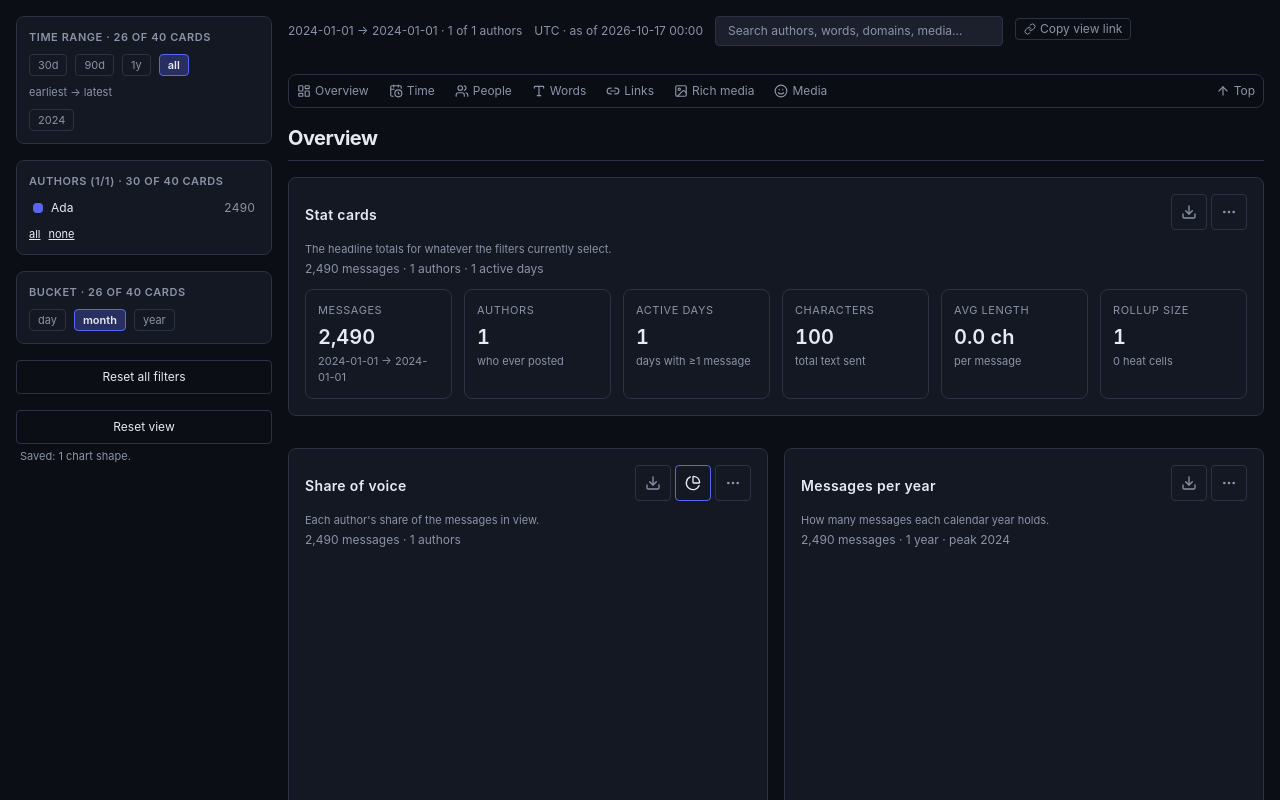
Scenario: a chart shape through the dashboard › acknowledges the reset instead of clearing the saved view silently
This screenshot has width=1280, height=800.
Click the button "Reset view".
click(144, 427)  # box top-left (16, 410), bottom-right (272, 444)
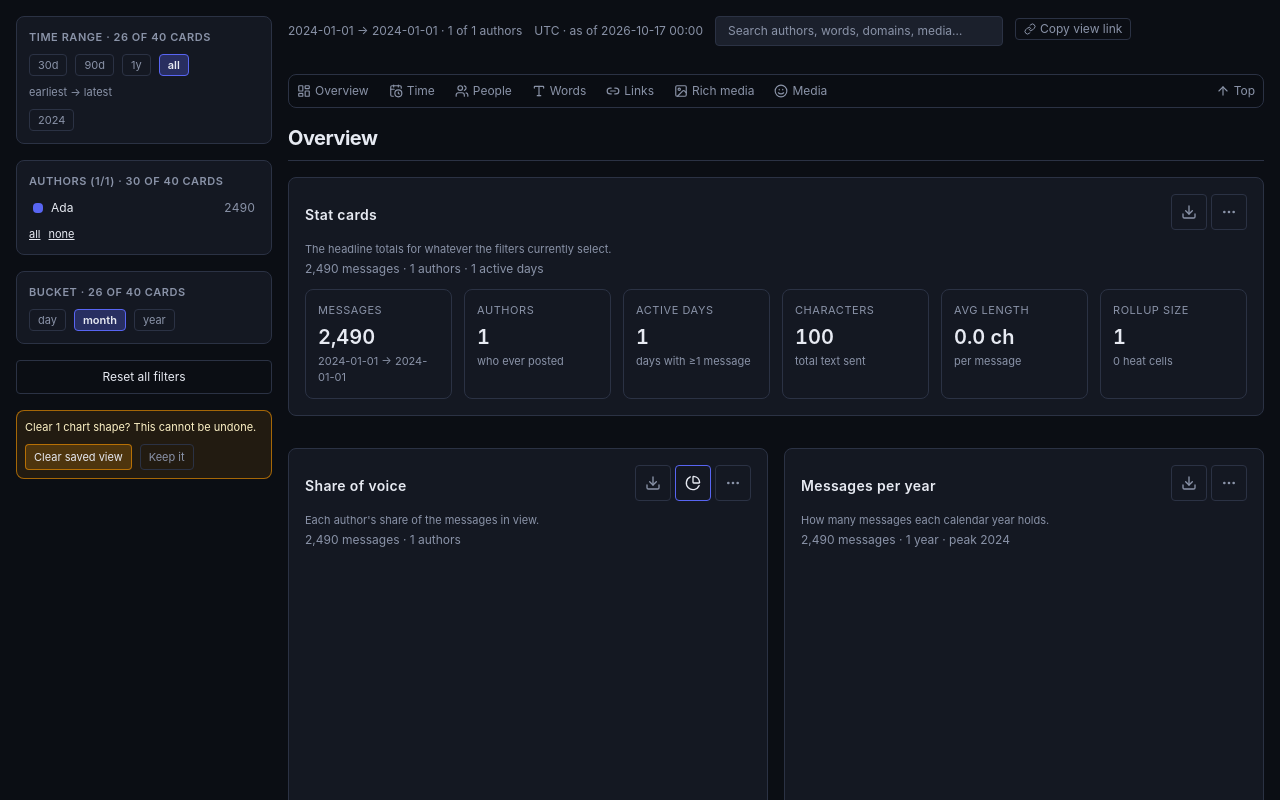
Click the button "Clear saved view".
click(78, 457)  # box top-left (25, 444), bottom-right (132, 470)
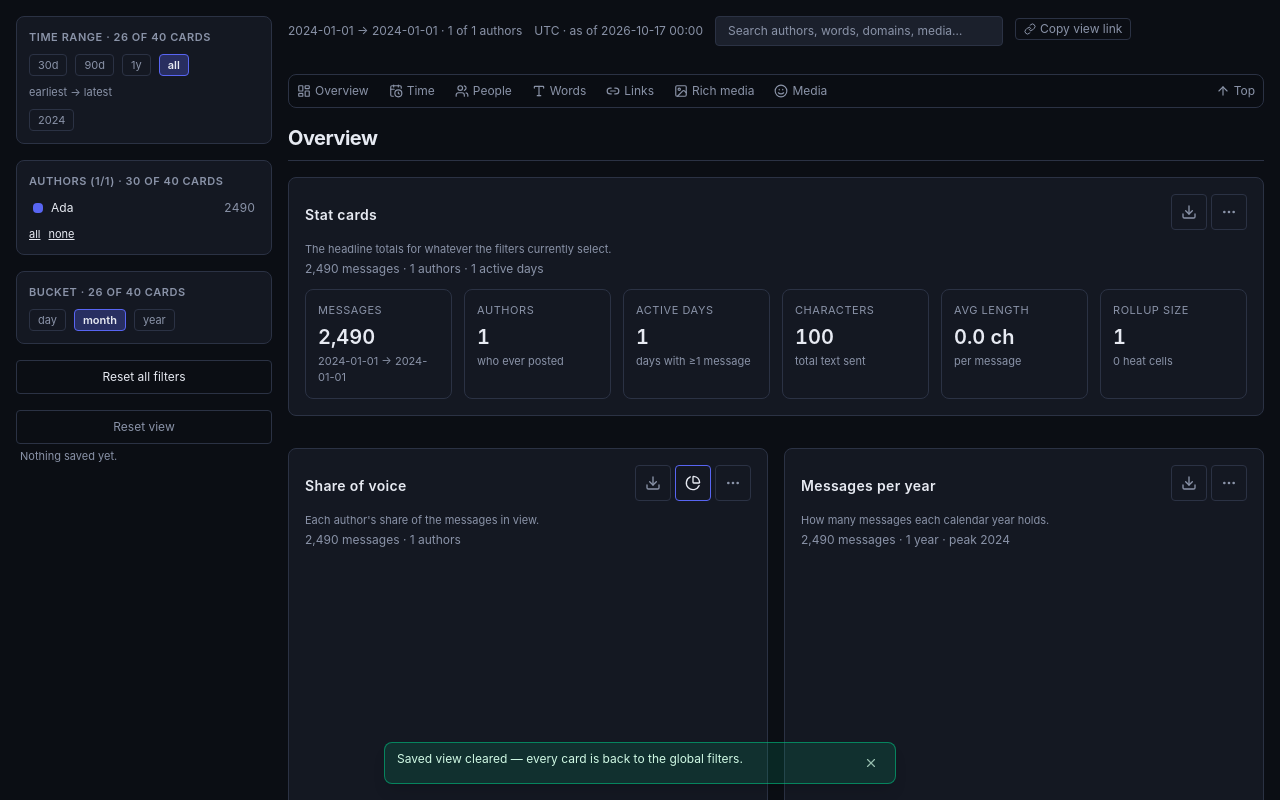
Check: the message shows "Saved view cleared", box top-left (397, 751), bottom-right (743, 766)
